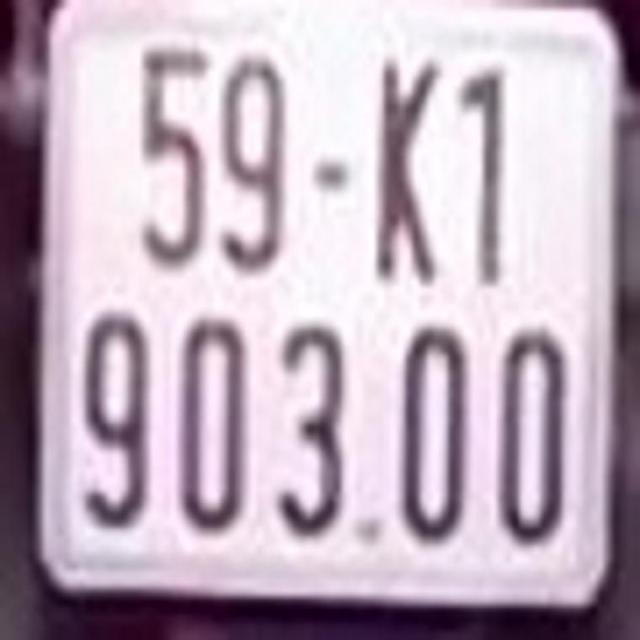0: (494, 321, 574, 548), (393, 314, 467, 541), (172, 308, 247, 530)
1: (452, 52, 519, 288)
3: (274, 312, 346, 535)
5: (136, 42, 208, 272)
9: (74, 304, 152, 528), (217, 44, 290, 276)
K: (374, 51, 436, 288)
